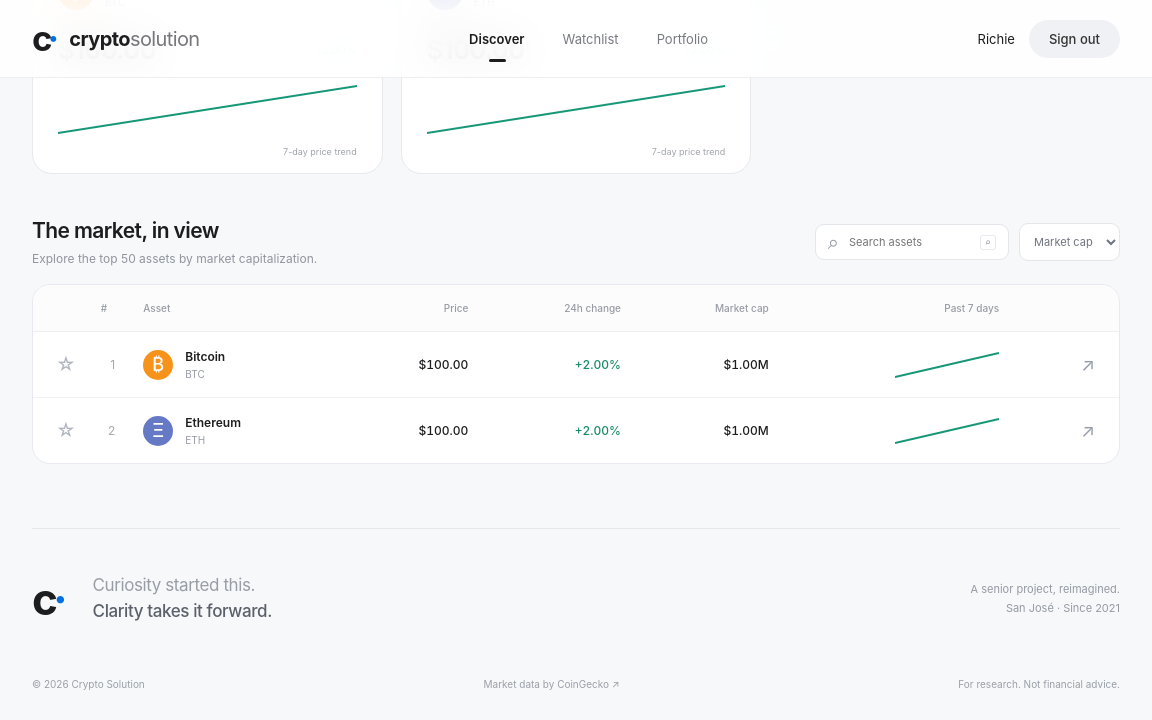
Test: keeps a failed watchlist save unsaved and reports the error
This screenshot has width=1152, height=720.
(page scrolled)
Expected: the text "Richie" is shown, x1=978 y1=30 x2=1015 y2=46
Click the button named "Save Bitcoin" at (66, 365), box x1=51 y1=348 x2=81 y2=382
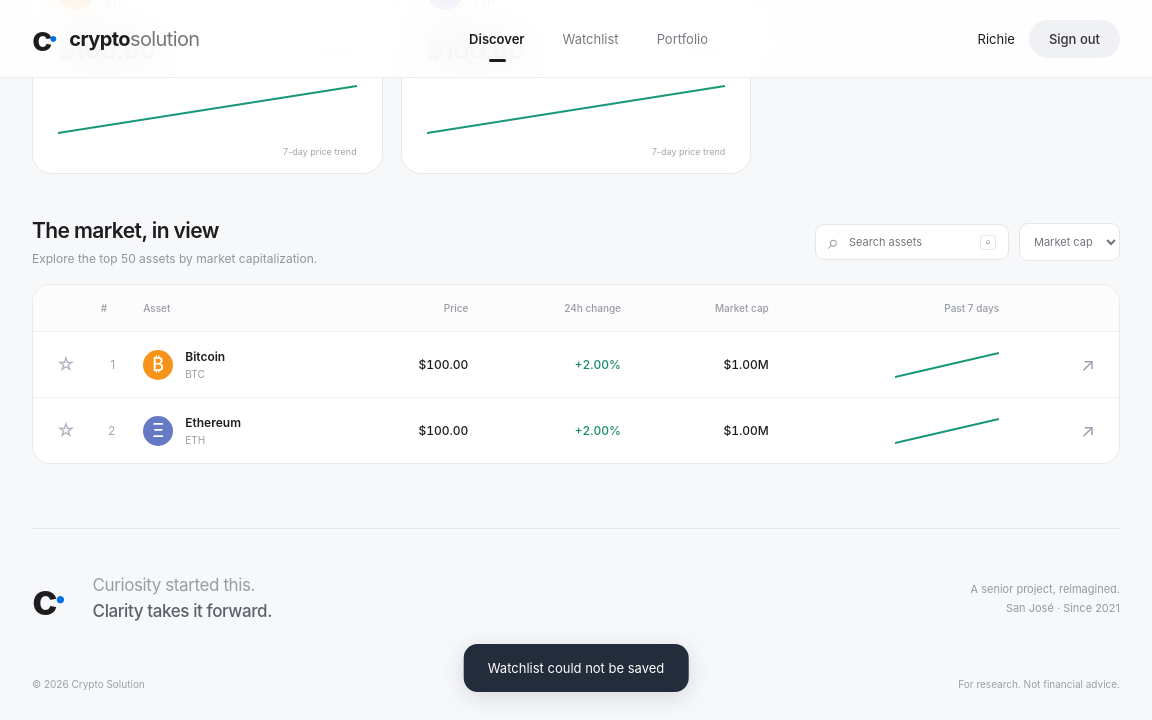
Now the text "Watchlist could not be saved" is shown, box x1=464 y1=644 x2=688 y2=692
